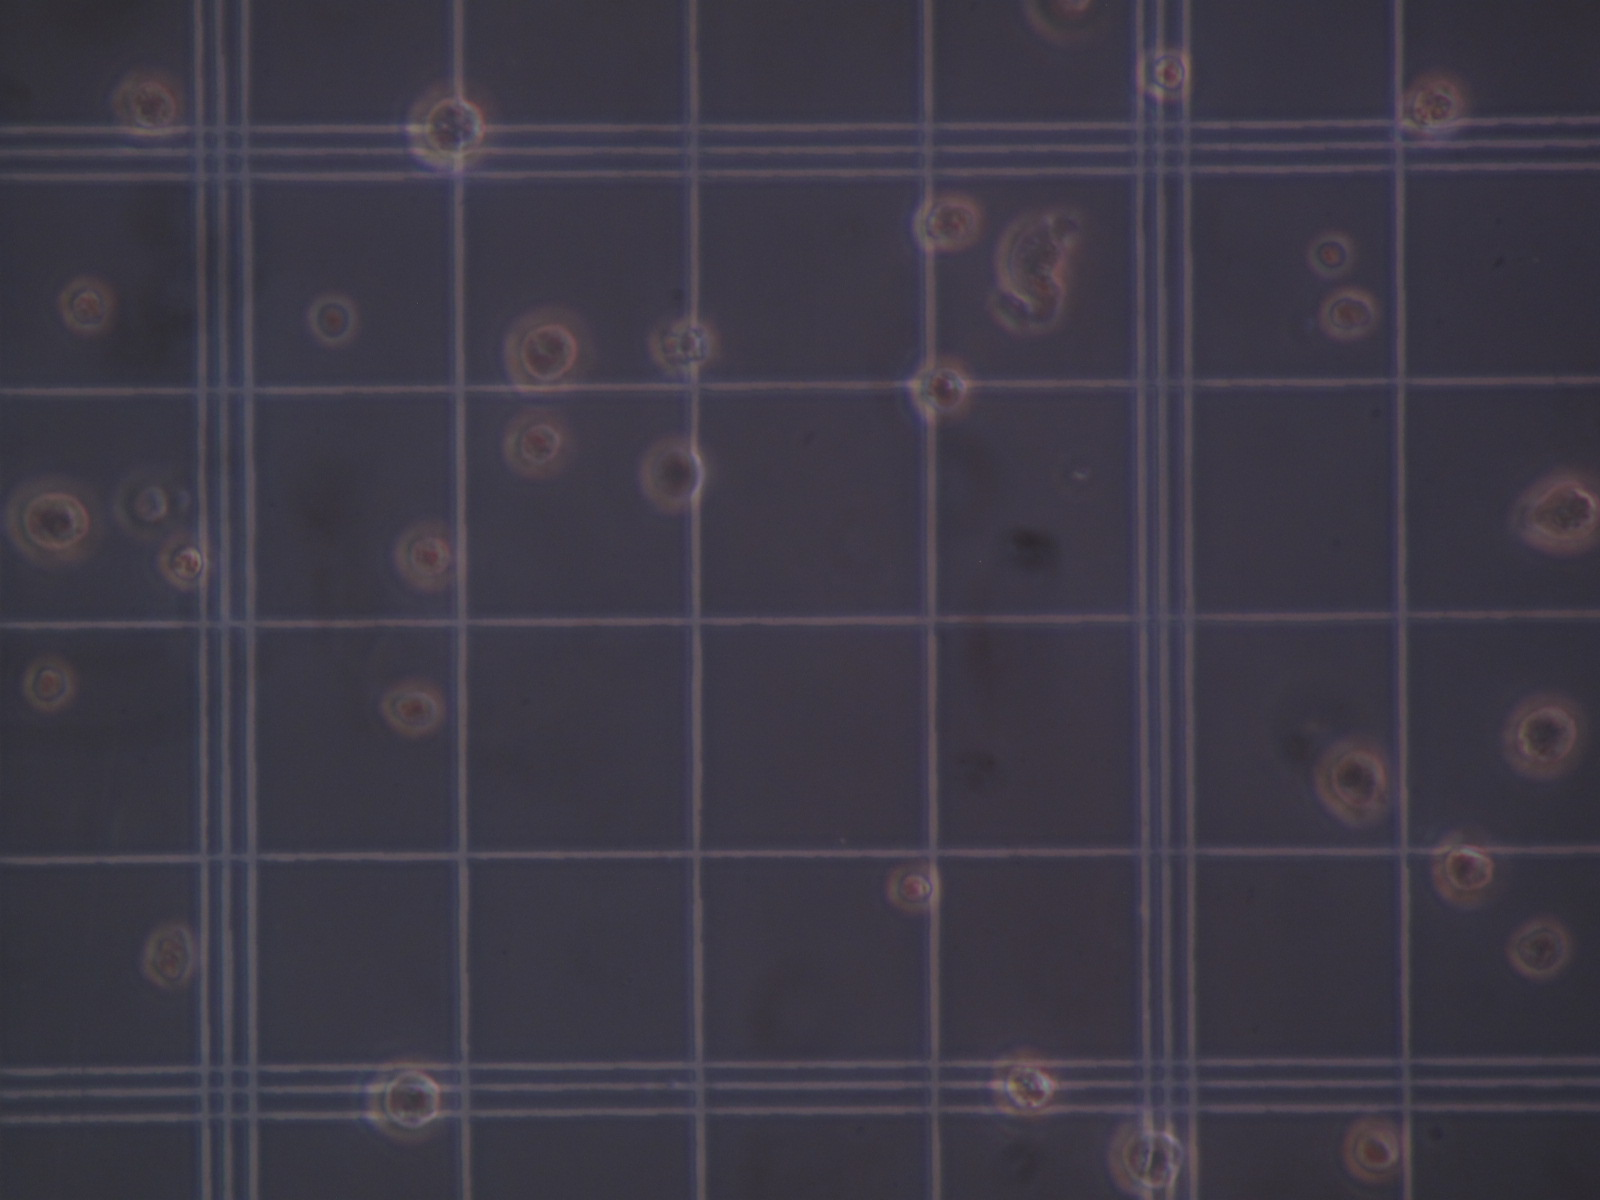hemo: (5, 473, 110, 567), (504, 303, 590, 395), (362, 1055, 449, 1145), (404, 84, 490, 175), (1499, 692, 1586, 780), (1511, 470, 1600, 555), (1311, 741, 1390, 826), (1107, 1121, 1187, 1196), (110, 67, 190, 139), (984, 1047, 1060, 1121), (1432, 829, 1495, 913), (641, 437, 707, 511), (505, 408, 571, 479), (113, 466, 179, 537), (396, 518, 459, 590), (905, 355, 973, 418), (1403, 71, 1466, 137), (1342, 1119, 1409, 1182), (378, 681, 446, 737), (1508, 916, 1570, 976), (648, 316, 712, 373), (1131, 45, 1192, 105), (141, 921, 193, 989), (911, 199, 979, 248), (55, 276, 113, 333), (1320, 286, 1377, 340), (20, 655, 74, 712), (156, 534, 210, 590), (886, 860, 941, 911), (305, 292, 357, 348), (1308, 229, 1353, 279)
